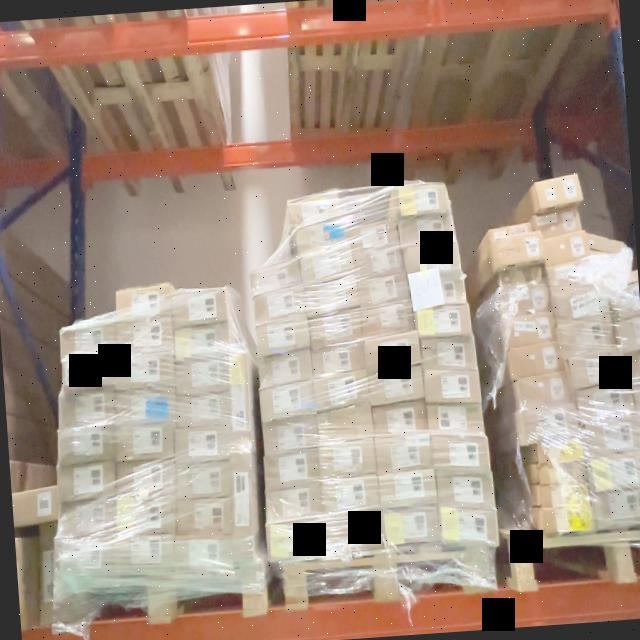box: (226, 450, 260, 566), (31, 524, 59, 627), (318, 515, 388, 556), (224, 352, 252, 450), (115, 534, 177, 576), (173, 534, 230, 577), (576, 384, 640, 422), (436, 471, 496, 511), (114, 352, 174, 392), (114, 389, 175, 428), (582, 416, 640, 457), (379, 468, 438, 508), (432, 435, 491, 475), (56, 537, 118, 575), (520, 405, 580, 444), (56, 462, 114, 502), (116, 314, 174, 354), (567, 350, 625, 390), (114, 424, 175, 462), (116, 496, 177, 534), (116, 459, 176, 497), (442, 509, 499, 549), (172, 286, 228, 326), (384, 508, 441, 547), (322, 476, 380, 514), (114, 282, 172, 320), (173, 357, 231, 395), (558, 317, 616, 355), (552, 282, 610, 320), (178, 496, 234, 535), (266, 483, 323, 521), (173, 424, 230, 462), (178, 459, 232, 499), (376, 436, 434, 473), (172, 322, 230, 359), (321, 439, 376, 478), (421, 336, 477, 374), (260, 382, 316, 420), (370, 366, 426, 404), (56, 426, 112, 464), (57, 390, 113, 428), (173, 392, 232, 428), (268, 523, 321, 563), (424, 369, 481, 406), (264, 450, 321, 487), (364, 332, 421, 369), (589, 452, 640, 493), (254, 318, 312, 354), (317, 404, 373, 441), (428, 402, 485, 438), (60, 320, 114, 358), (409, 270, 466, 306), (417, 303, 472, 340), (262, 418, 318, 454), (298, 248, 354, 284), (62, 499, 116, 536), (374, 402, 428, 438), (395, 180, 449, 216), (518, 373, 572, 409), (511, 342, 564, 378), (490, 228, 543, 264), (253, 288, 307, 323), (258, 353, 313, 387), (305, 281, 360, 315), (289, 193, 344, 227), (402, 242, 460, 274), (313, 375, 366, 410), (397, 213, 453, 246), (308, 310, 362, 344), (592, 491, 640, 529), (312, 344, 364, 378), (506, 312, 558, 346), (293, 220, 348, 252), (358, 273, 411, 306), (61, 358, 114, 390), (364, 302, 416, 334), (536, 172, 582, 208), (12, 489, 58, 525), (251, 261, 302, 293), (501, 284, 550, 316), (550, 258, 599, 289), (350, 219, 396, 252), (353, 247, 402, 277), (540, 508, 593, 535), (544, 232, 589, 262), (498, 262, 546, 290), (537, 462, 587, 488), (542, 483, 590, 510), (538, 206, 584, 234), (590, 248, 632, 276), (536, 440, 584, 464), (609, 278, 640, 315), (586, 229, 630, 255), (617, 312, 640, 350), (626, 350, 640, 384), (633, 382, 640, 416)
